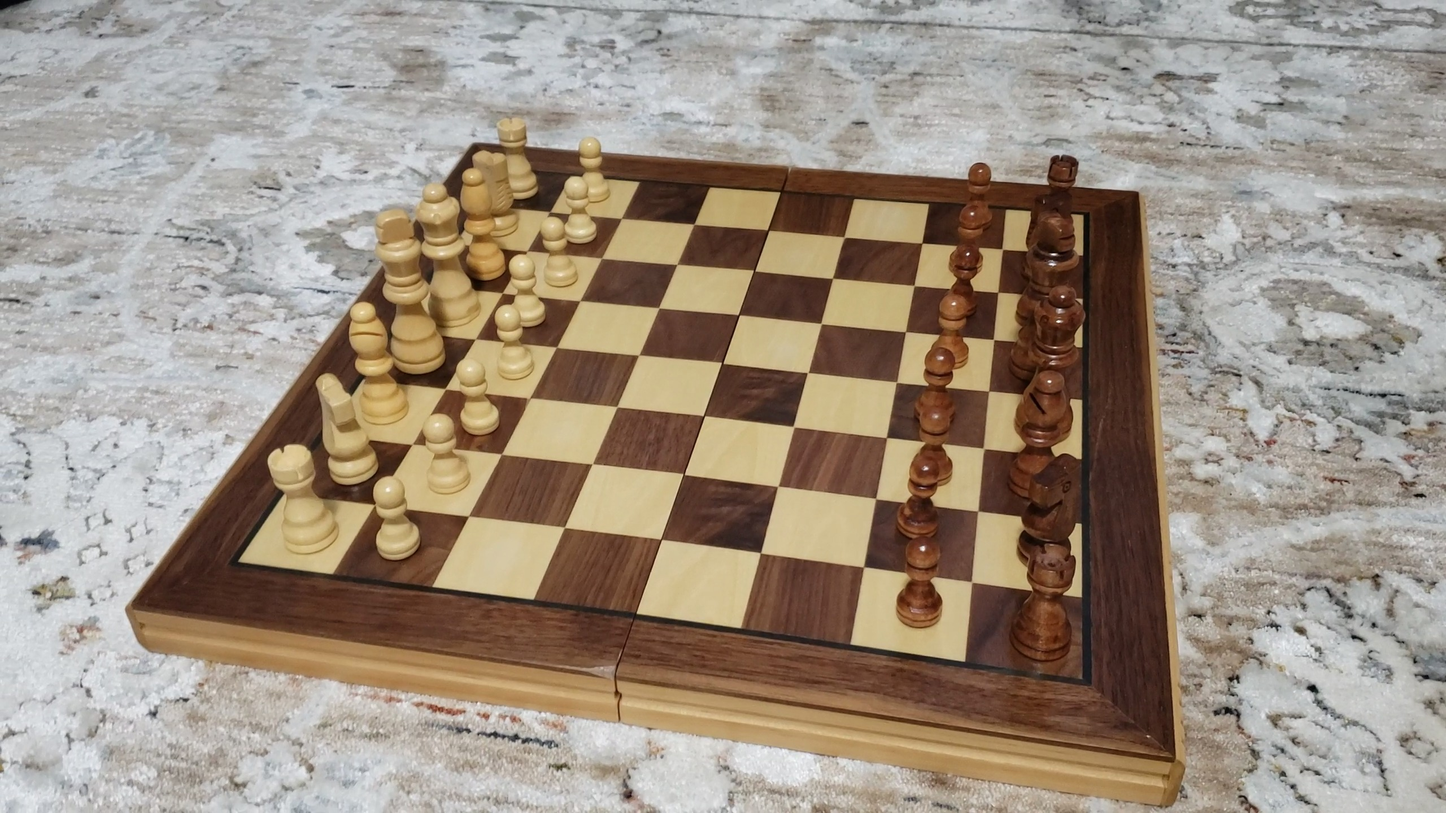black-bishop: (1007, 369, 1074, 495)
black-knight: (1013, 449, 1082, 572)
black-pawn: (908, 390, 957, 489), (894, 537, 945, 630), (892, 460, 943, 544), (916, 344, 959, 435), (928, 293, 973, 374), (955, 158, 995, 237), (948, 202, 989, 278), (939, 243, 990, 294)
black-rook: (1008, 545, 1079, 665), (1037, 151, 1090, 198)
white-bishop: (343, 299, 411, 427), (456, 158, 511, 280)
white-king: (370, 202, 451, 381)
white-knight: (312, 372, 381, 488), (483, 145, 522, 238)
white-pawn: (363, 473, 428, 566), (416, 412, 476, 497), (452, 359, 504, 439), (500, 250, 551, 331), (489, 300, 538, 384), (530, 213, 581, 292), (553, 176, 601, 247), (573, 133, 613, 207)
white-queen: (414, 179, 484, 330)
white-rook: (262, 444, 341, 556), (492, 113, 544, 204)
